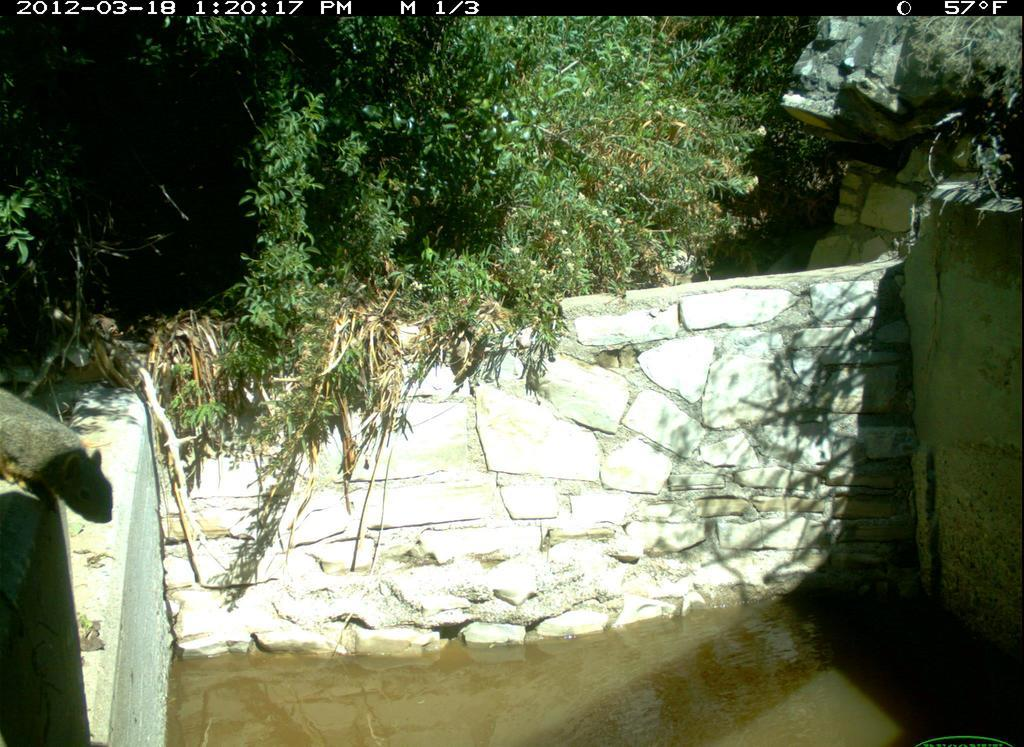squirrel: (4, 376, 130, 545)
